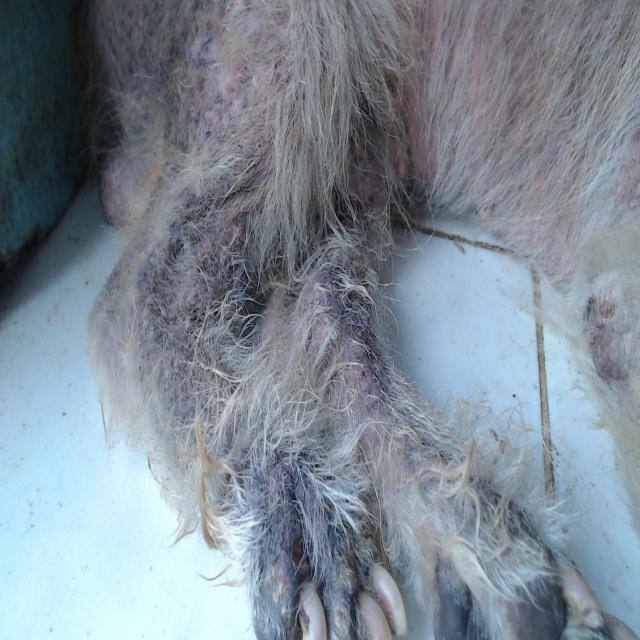demodicosis: (121, 192, 236, 399), (126, 19, 267, 148), (293, 287, 391, 454), (373, 18, 466, 181), (583, 278, 629, 368)
